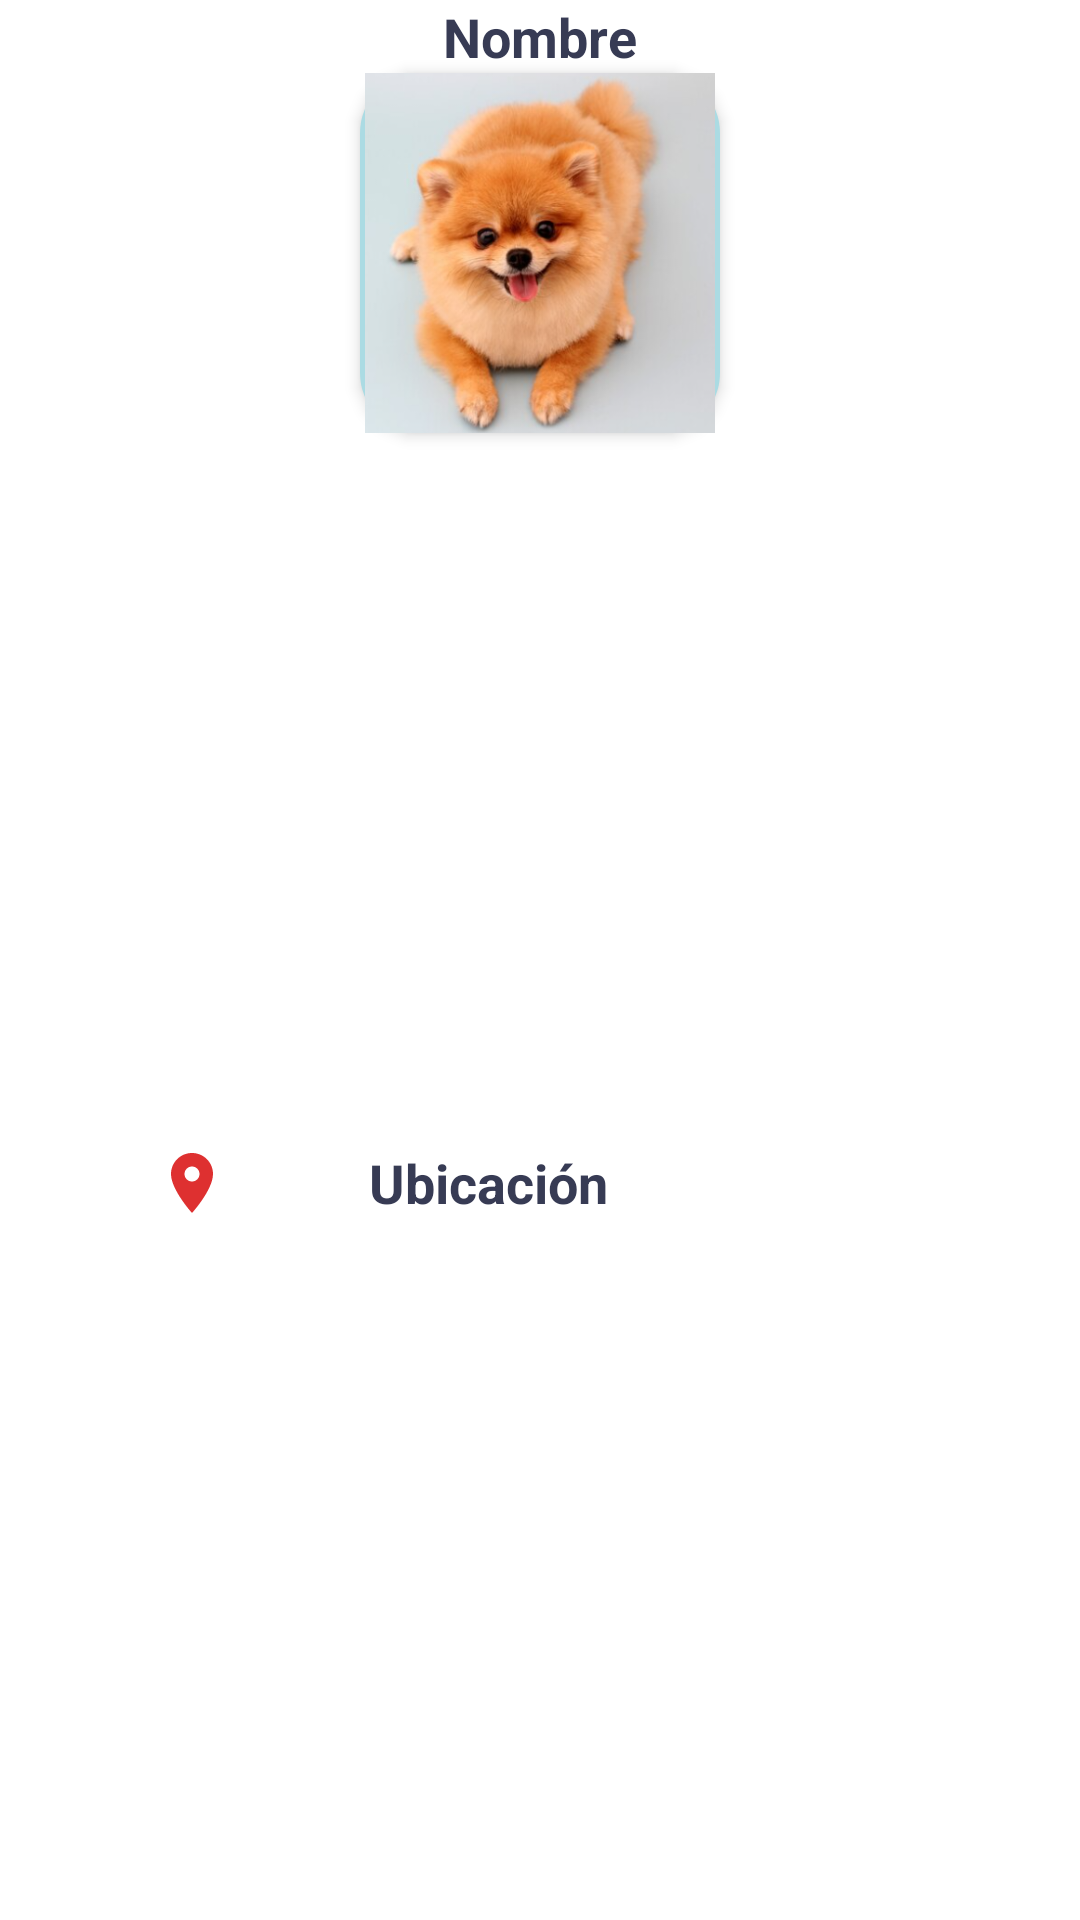

Locate icon controls on the screen. Image size 1080 × 1920, boxes as (x1, y1, x2, y2).
location: (171, 1153, 213, 1213)
mascota: (360, 73, 720, 433)
